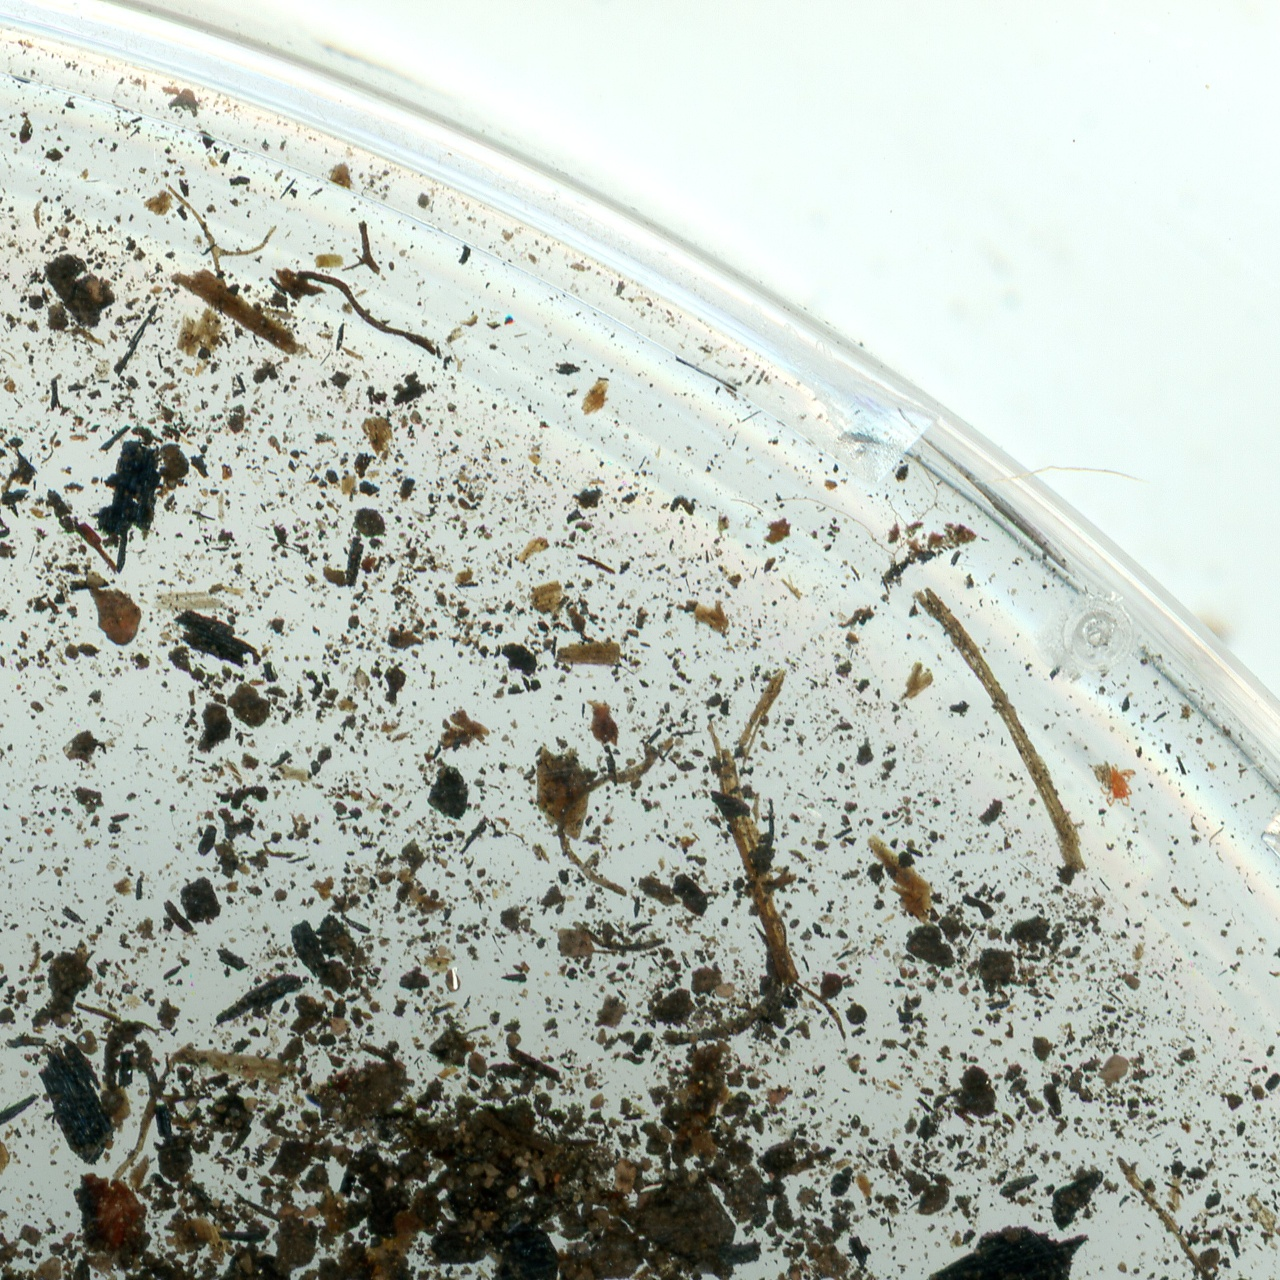arthropod: (1099, 762, 1139, 808)
